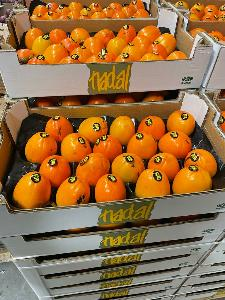persimmon: (0, 98, 224, 217), (14, 17, 186, 77), (29, 0, 164, 26), (167, 0, 225, 58)
